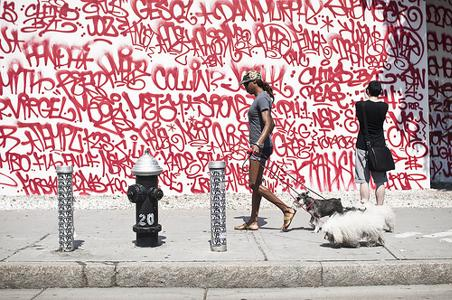person: (238, 72, 296, 230)
